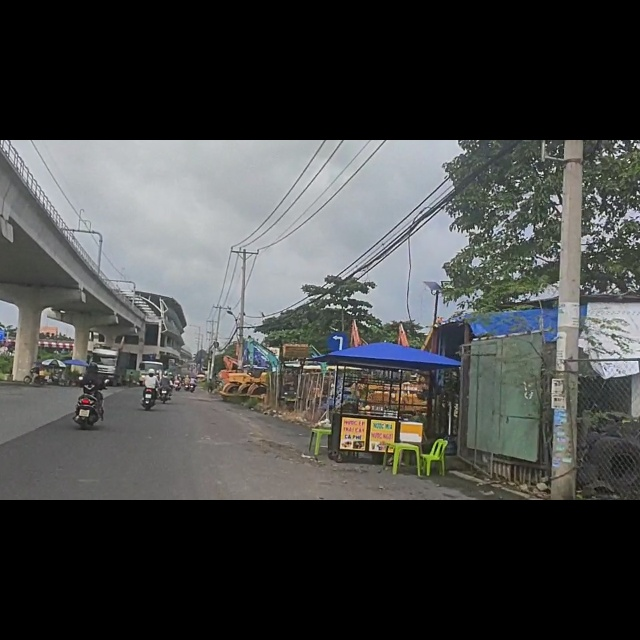bien_hieu_lenh: (328, 341, 349, 377)
